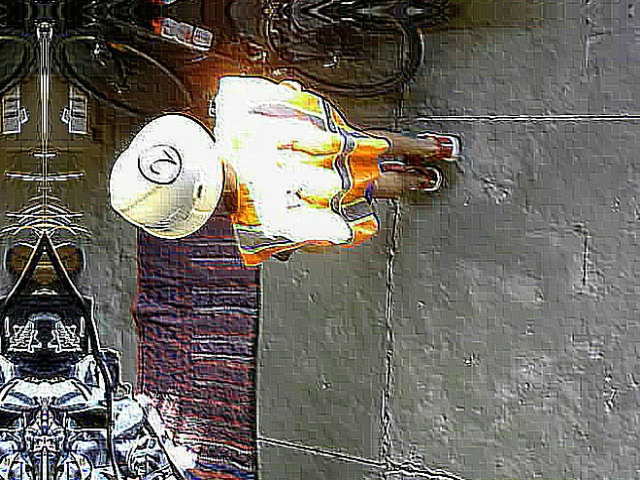two: (136, 141, 181, 182)
